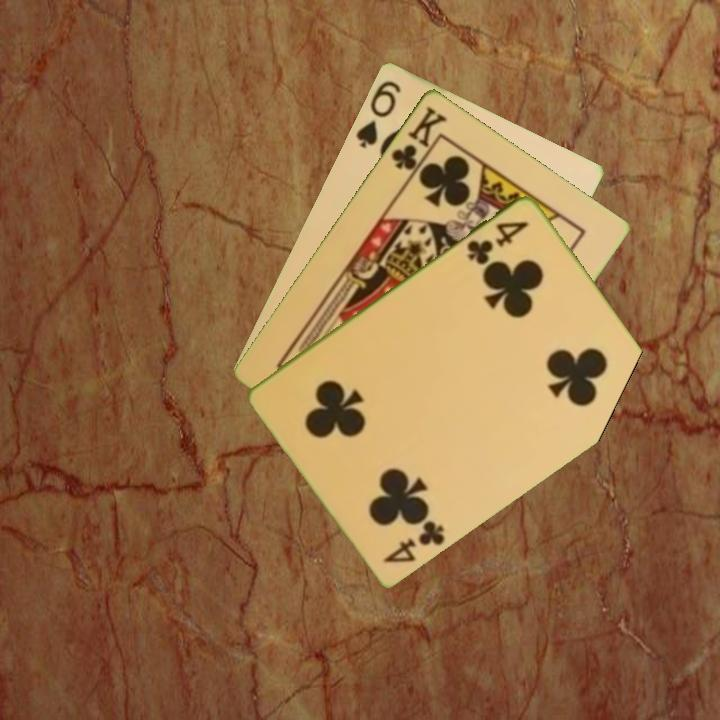4c: (463, 217, 532, 267), (380, 516, 448, 566)
6s: (352, 76, 404, 151)
Kc: (387, 102, 450, 183)
